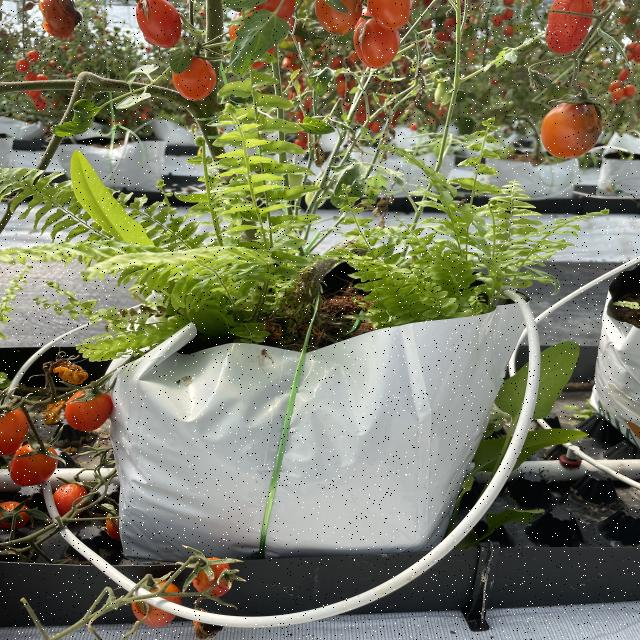Obstacle: (502, 286, 543, 377)
Soilbag: (108, 303, 534, 564)
plant: (119, 9, 568, 333)
